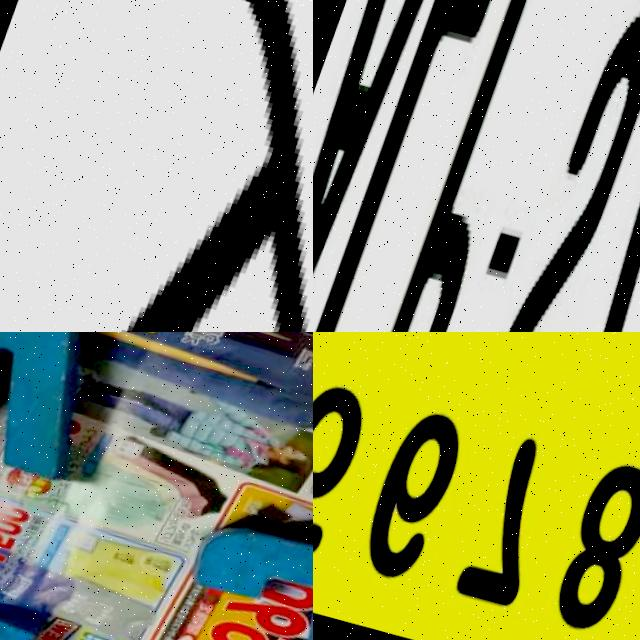5: (313, 360, 392, 580)
6: (352, 394, 491, 606)
7: (508, 6, 640, 332), (458, 414, 592, 620)
8: (538, 455, 640, 640)
A: (313, 0, 434, 332)
J: (162, 508, 313, 640)
L: (313, 0, 499, 332)
P: (337, 0, 568, 332)
S: (441, 24, 640, 332)
V: (0, 332, 122, 486)
Y: (7, 0, 313, 332)
